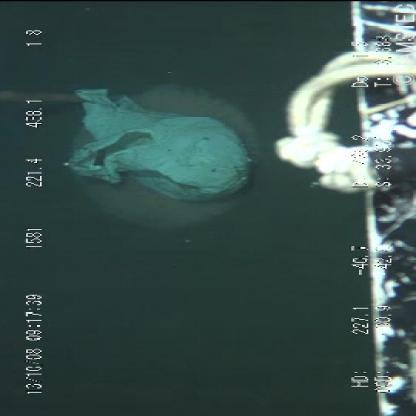Rov: (261, 1, 415, 415)
Rác: (56, 79, 248, 207)
